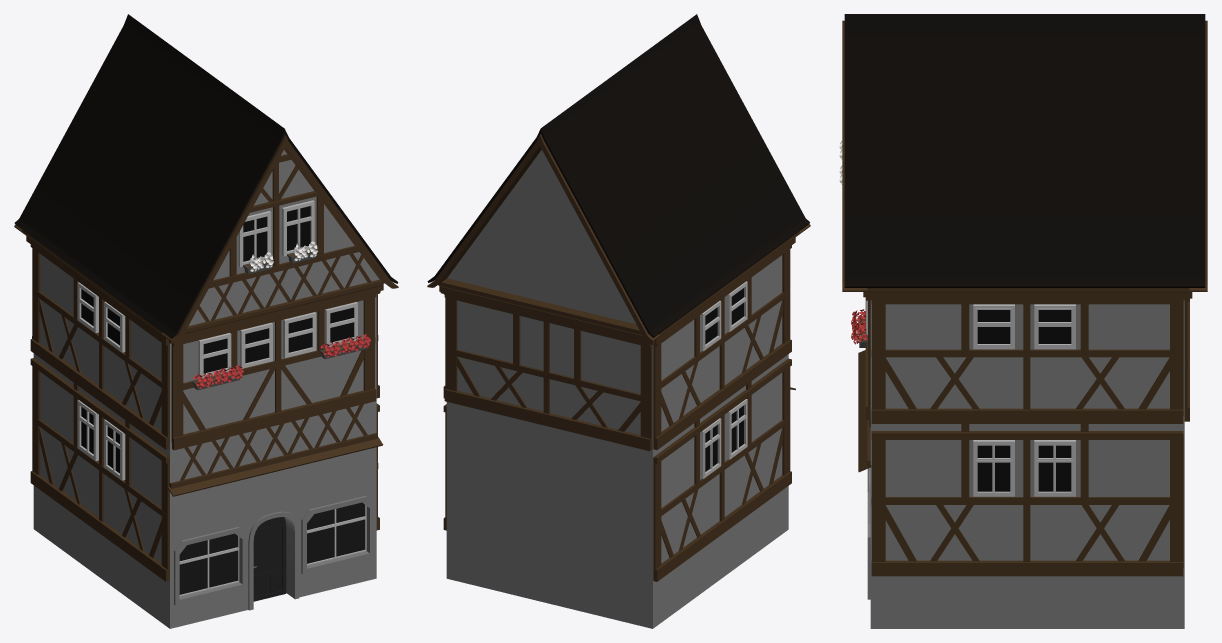
File: SM_house_german_001.fbx
The picture shows the model from 3 angles, left to right: view 1: azimuth 30°, elevation 25°; view 2: azimuth 150°, elevation 25°; view 3: azimuth 270°, elevation 25°; orthographic projection. The views are drawn at different scales.
Visible parts, largest first — view 1: Box145; view 2: Box145; view 3: Box145.
Boxes of the visible parts, <box> form: Box145: <box>14,14,398,628</box>; Box145: <box>427,14,810,628</box>; Box145: <box>839,14,1207,628</box>.
Bounding box in the file's own units: 243 × 296 × 495.
